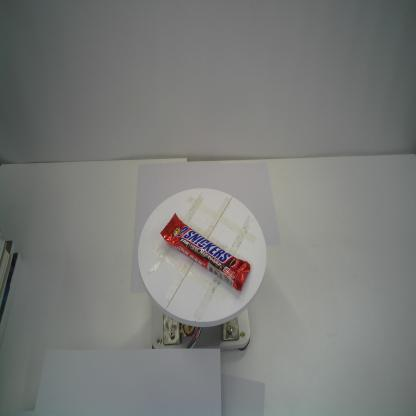Chocolate: (158, 212, 254, 292)
